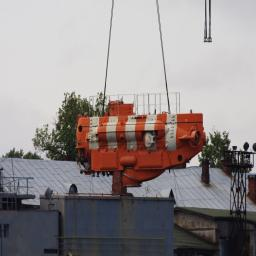submarine: (73, 92, 207, 195)
